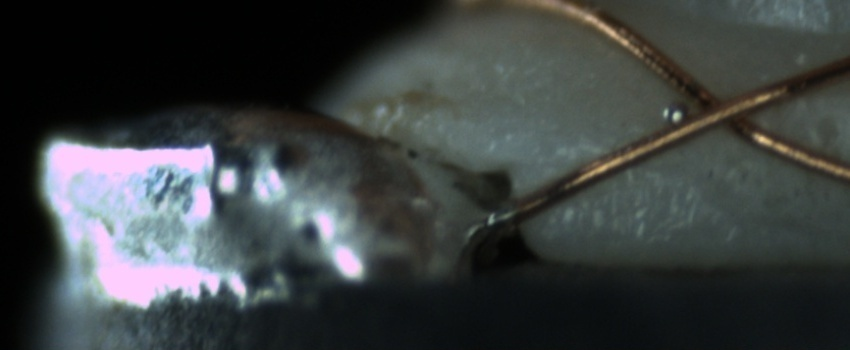CL: (651, 62, 783, 147)
